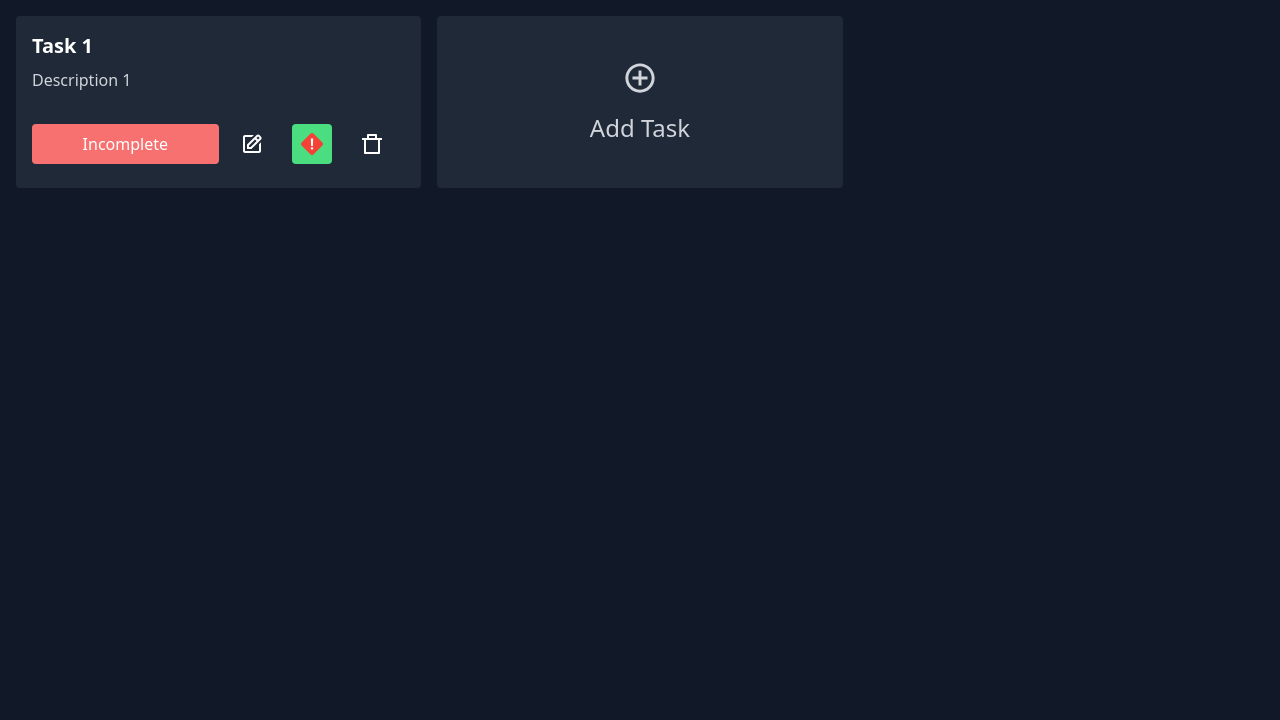
Test: Cards Component › opens edit form when clicking on edit button
Click the button with test id "edit-button" at (252,144), box [240, 124, 264, 164]
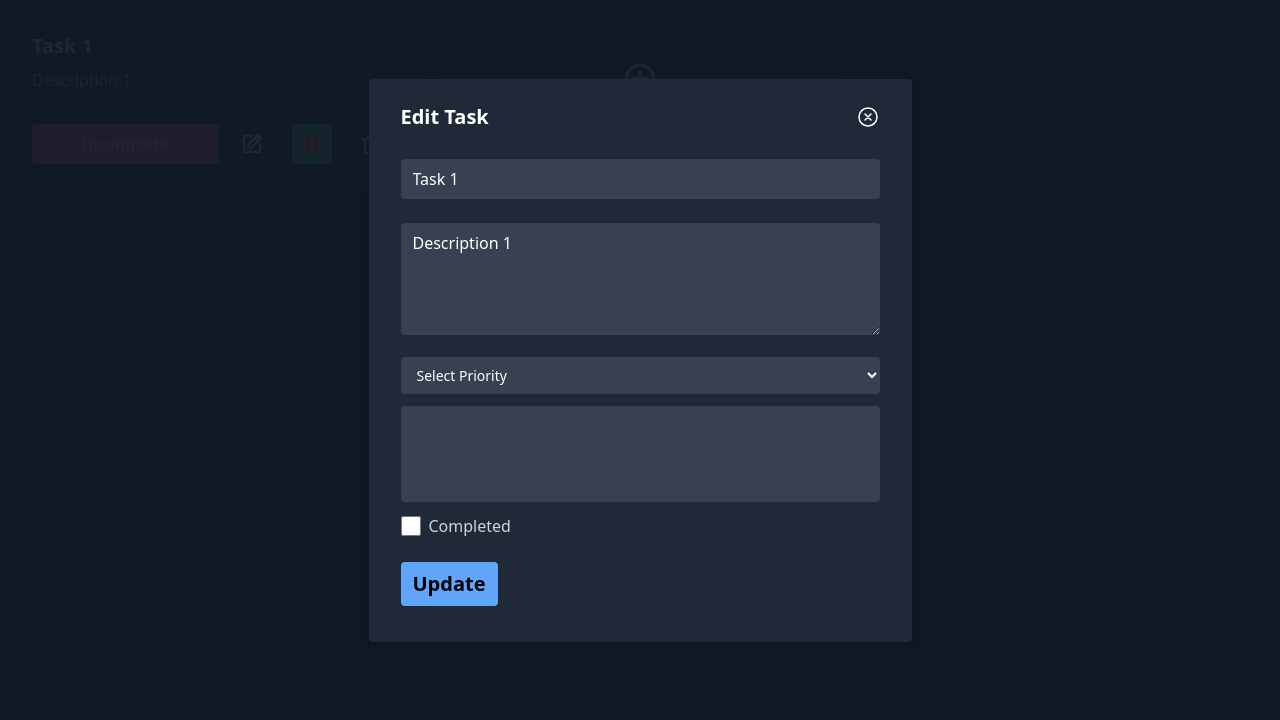
Expected: the heading "Edit Task" is shown, [400, 102, 489, 130]
